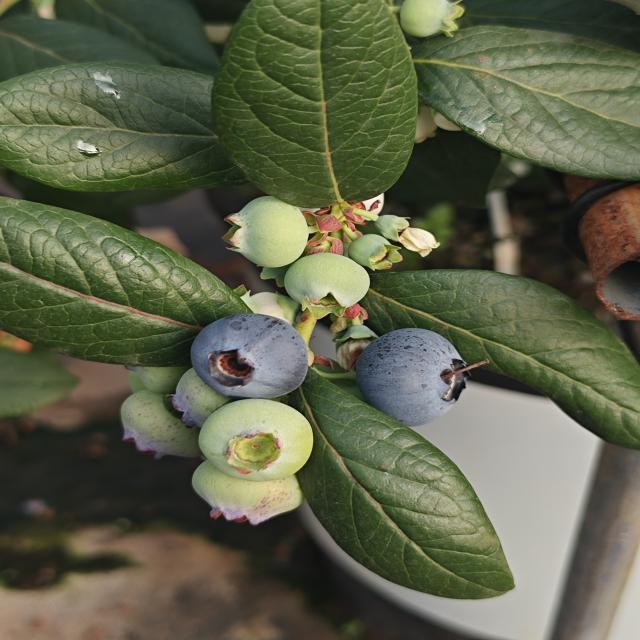ripe: (186, 308, 313, 401), (359, 323, 475, 422)
